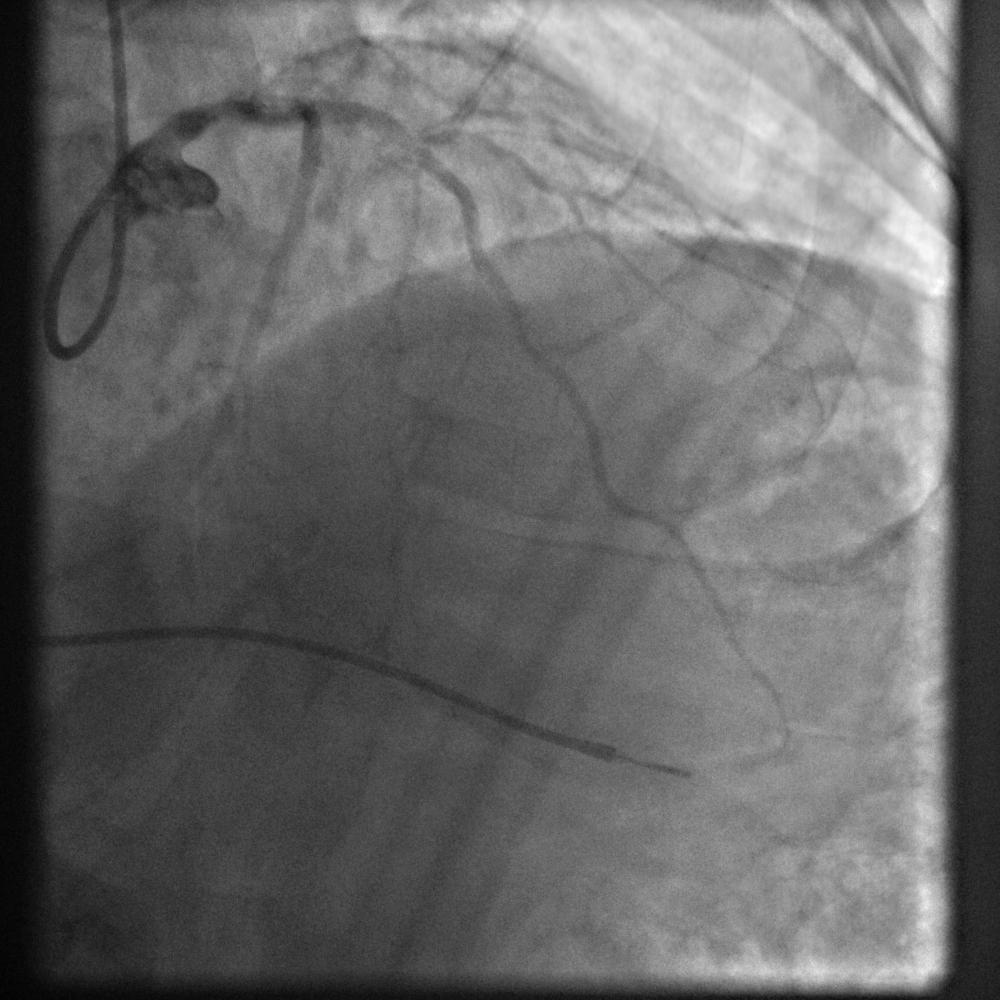Stenosis: (388, 116, 442, 173)
